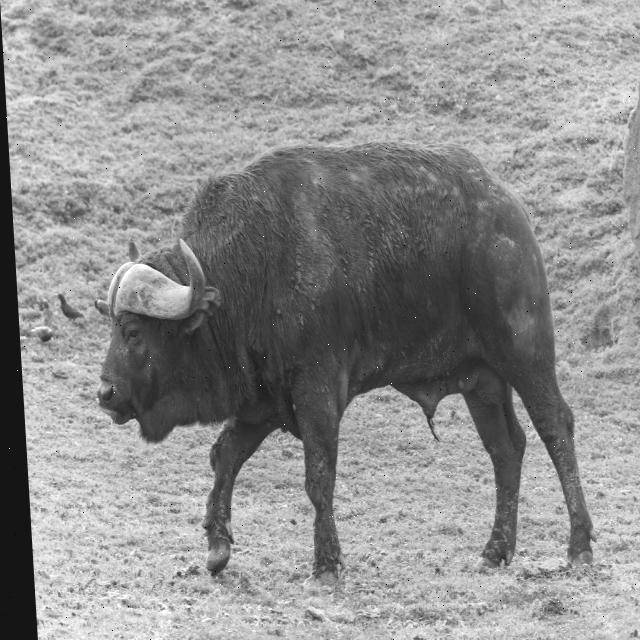Buffalo: (80, 137, 598, 582)
